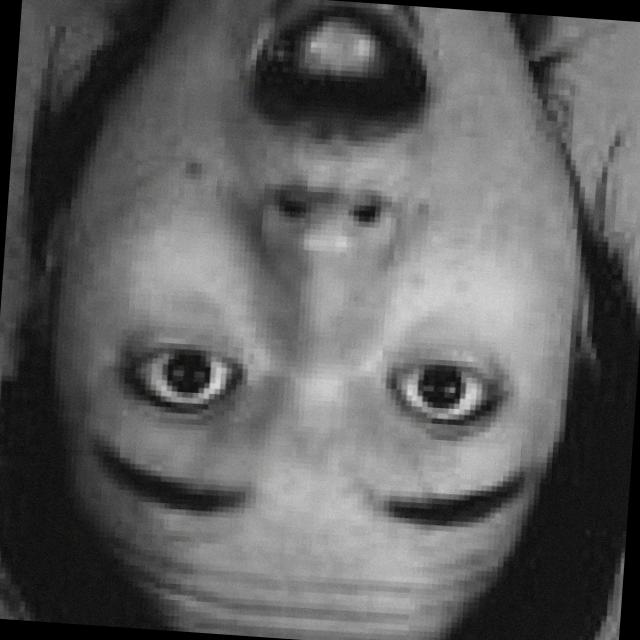surprise: (30, 0, 577, 602)
